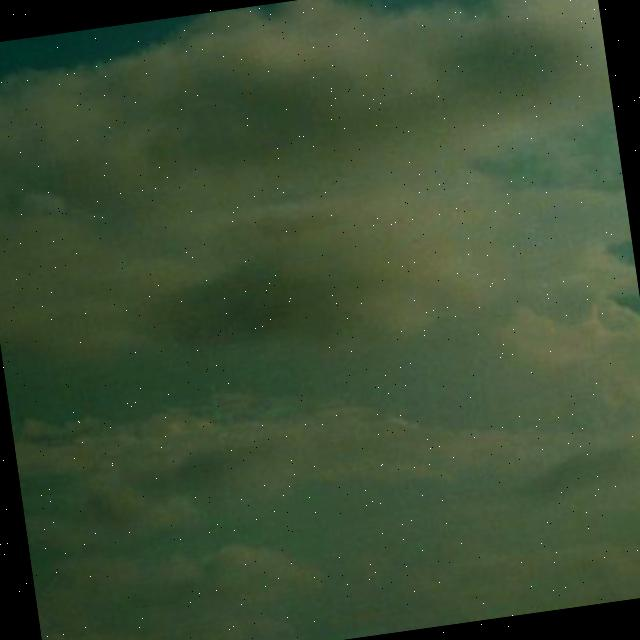St: (1, 1, 640, 558)
